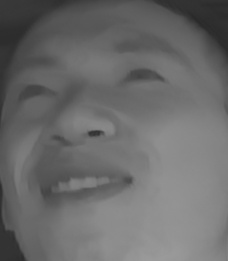eye: (112, 56, 165, 92), (10, 76, 61, 106)
mouth: (29, 155, 136, 208)
